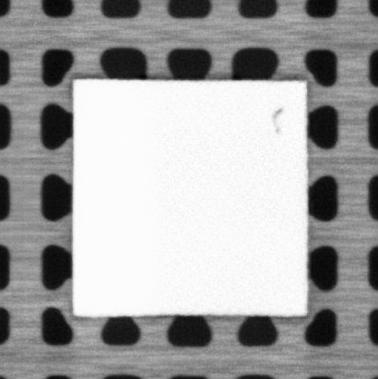DIE_INK: (272, 105, 284, 135)
